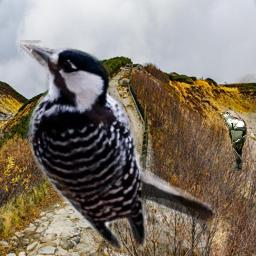Cuckoo: (218, 110, 247, 171)
Woodpecker: (20, 40, 219, 250)
